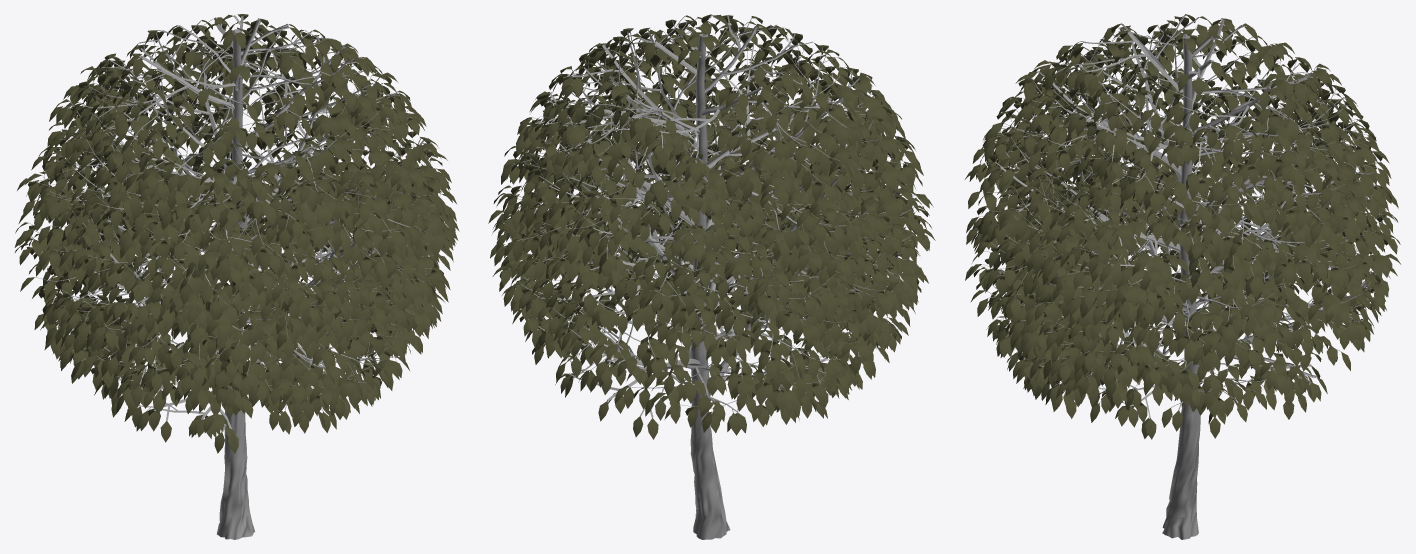
Rendered from Tree.obj.
3 views of the same model, side by side, from view 1: azimuth 30°, elevation 25°; view 2: azimuth 150°, elevation 25°; view 3: azimuth 270°, elevation 25° (orthographic).
Parts seen in each view (by area): view 1: L1, Material__35; view 2: L1, Material__35; view 3: L1, Material__35.
Boxes of the visible parts, box(x1,y1,x2,y2) form: L1: box(15, 17, 459, 453); Material__35: box(14, 14, 458, 539); L1: box(493, 14, 931, 436); Material__35: box(488, 14, 935, 539); L1: box(965, 16, 1400, 439); Material__35: box(965, 14, 1400, 539).
Size of the model in its own units: 117 by 146 by 116.
